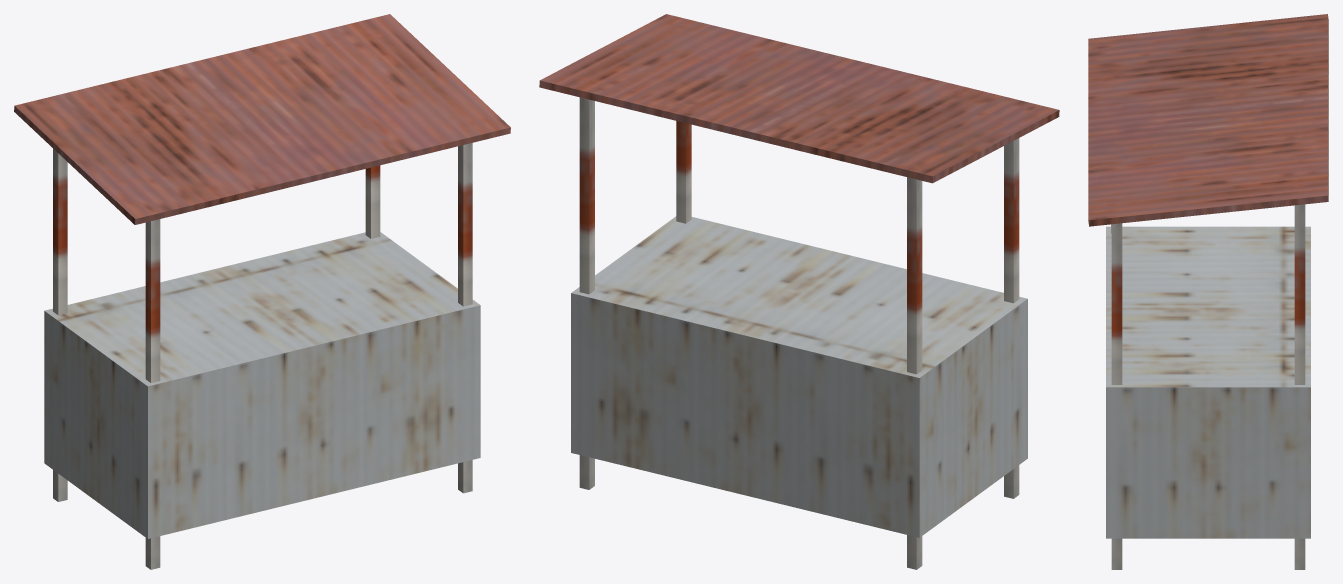
Rendered from MarketStall_1.fbx.
The picture shows the model from 3 angles, left to right: view 1: azimuth 30°, elevation 25°; view 2: azimuth 150°, elevation 25°; view 3: azimuth 270°, elevation 25°; orthographic projection. The views are drawn at different scales.
Parts seen in each view (by area): view 1: MarketStall_1; view 2: MarketStall_1; view 3: MarketStall_1.
Part boxes in pixels (x1=…): MarketStall_1: x1=14, y1=14, x2=510, y2=569; MarketStall_1: x1=539, y1=14, x2=1059, y2=569; MarketStall_1: x1=1088, y1=14, x2=1328, y2=569.
Size of the model in its own units: 226 by 224 by 126.
